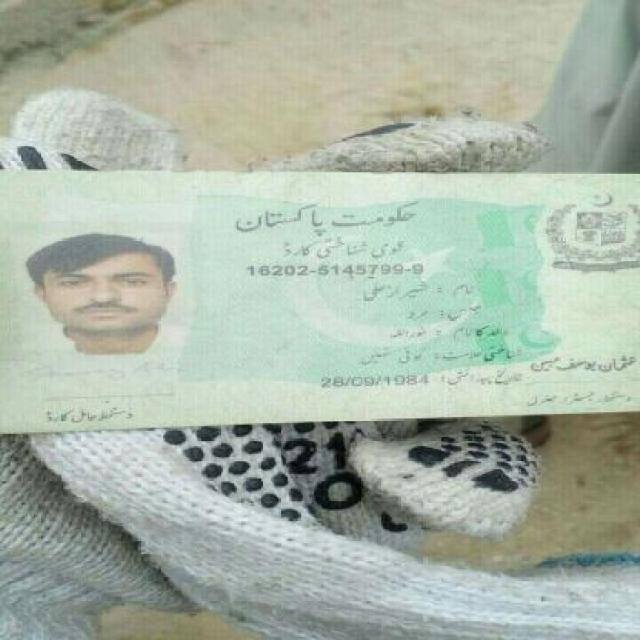Front: (3, 163, 639, 435)
